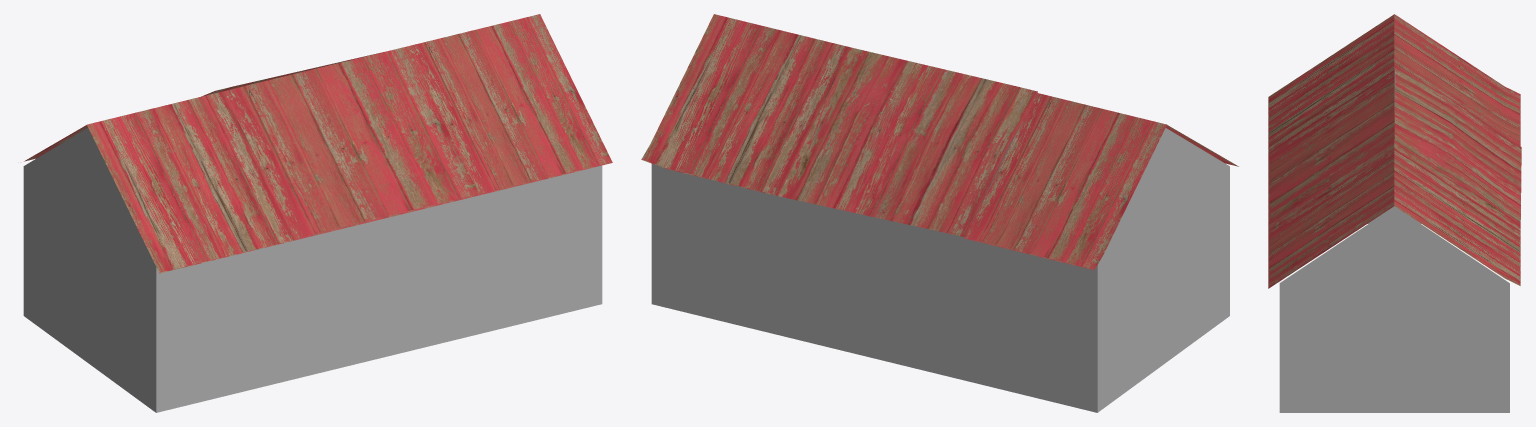
Rendered from House_01_Lod1.fbx.
3 renders of one model, left to right at view 1: azimuth 30°, elevation 25°; view 2: azimuth 150°, elevation 25°; view 3: azimuth 270°, elevation 25°, orthographic. The views are drawn at different scales.
Parts seen in each view (by area): view 1: House_01_Lod1; view 2: House_01_Lod1; view 3: House_01_Lod1.
Part boxes in pixels (bbox=[...]): House_01_Lod1: bbox=[23, 14, 612, 412]; House_01_Lod1: bbox=[641, 14, 1238, 412]; House_01_Lod1: bbox=[1268, 14, 1521, 412].
Size of the model in its own units: 826 by 422 by 460.
